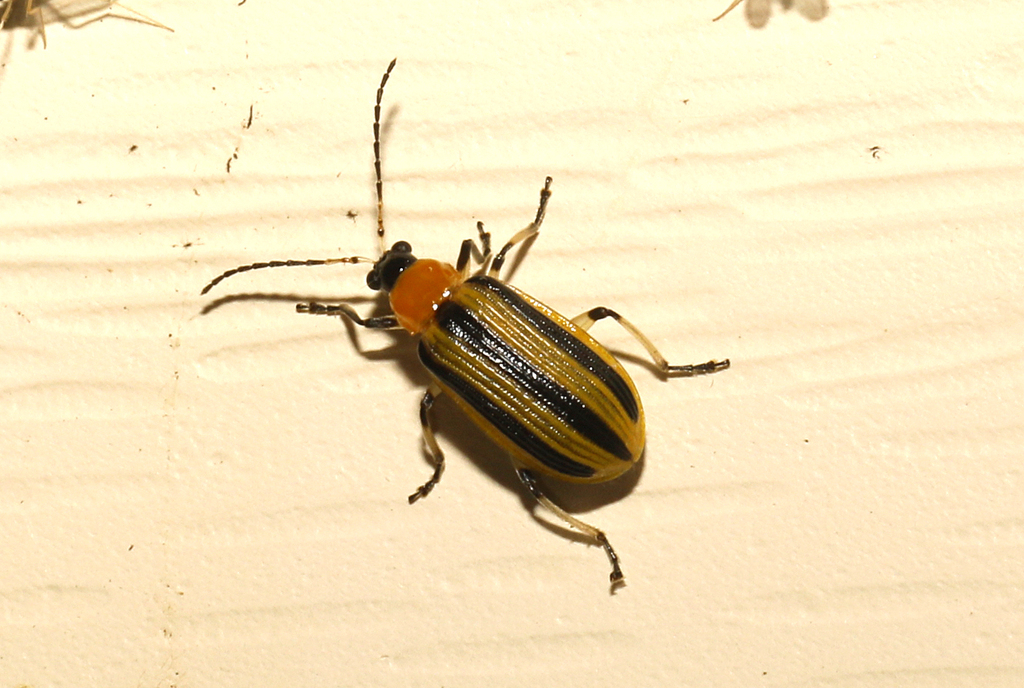potato_beetle: (124, 0, 805, 673), (130, 5, 809, 678)
